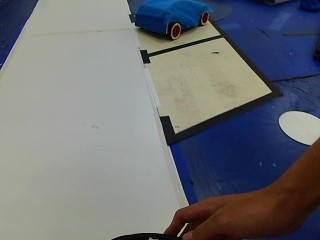car: (129, 0, 211, 42)
